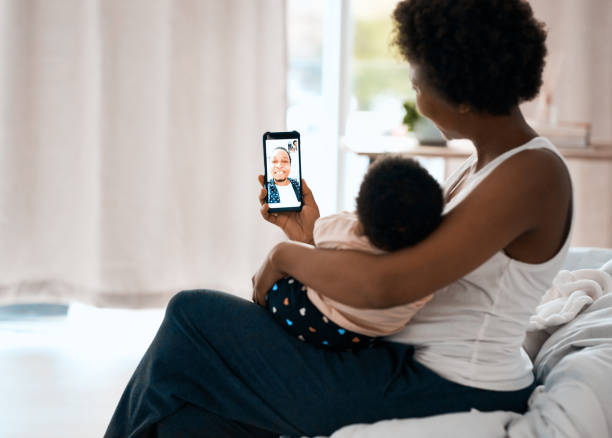without mask: (410, 56, 481, 145), (265, 150, 294, 180)
